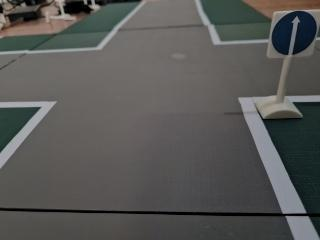straight: (269, 9, 320, 58)
